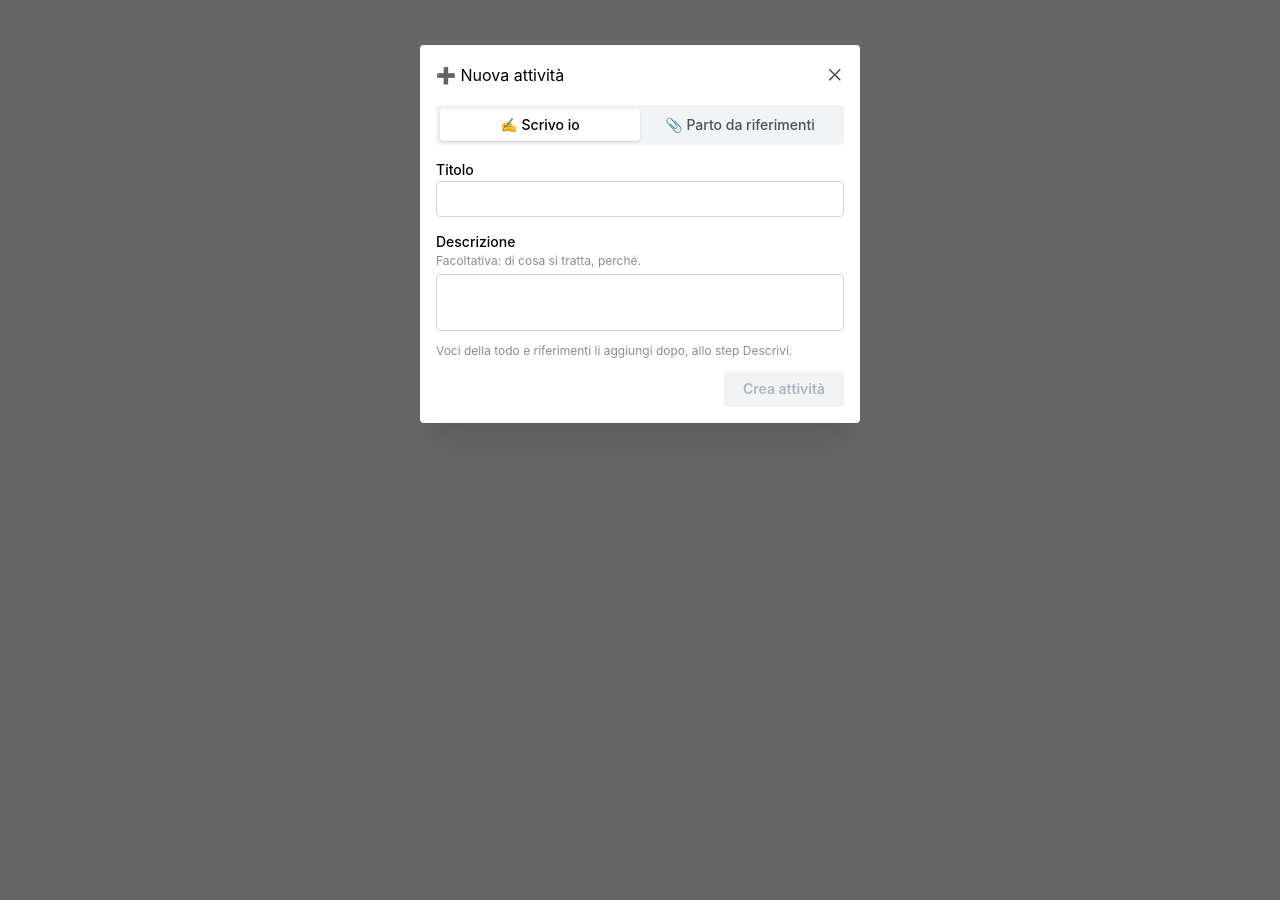
«➕ Nuova attività» · «📎 Parto da riferimenti» › «Cosa vuoi fare» alone is enough to propose
Click the text "📎 Parto da riferimenti".
click(740, 124)  # box [665,116,815,133]
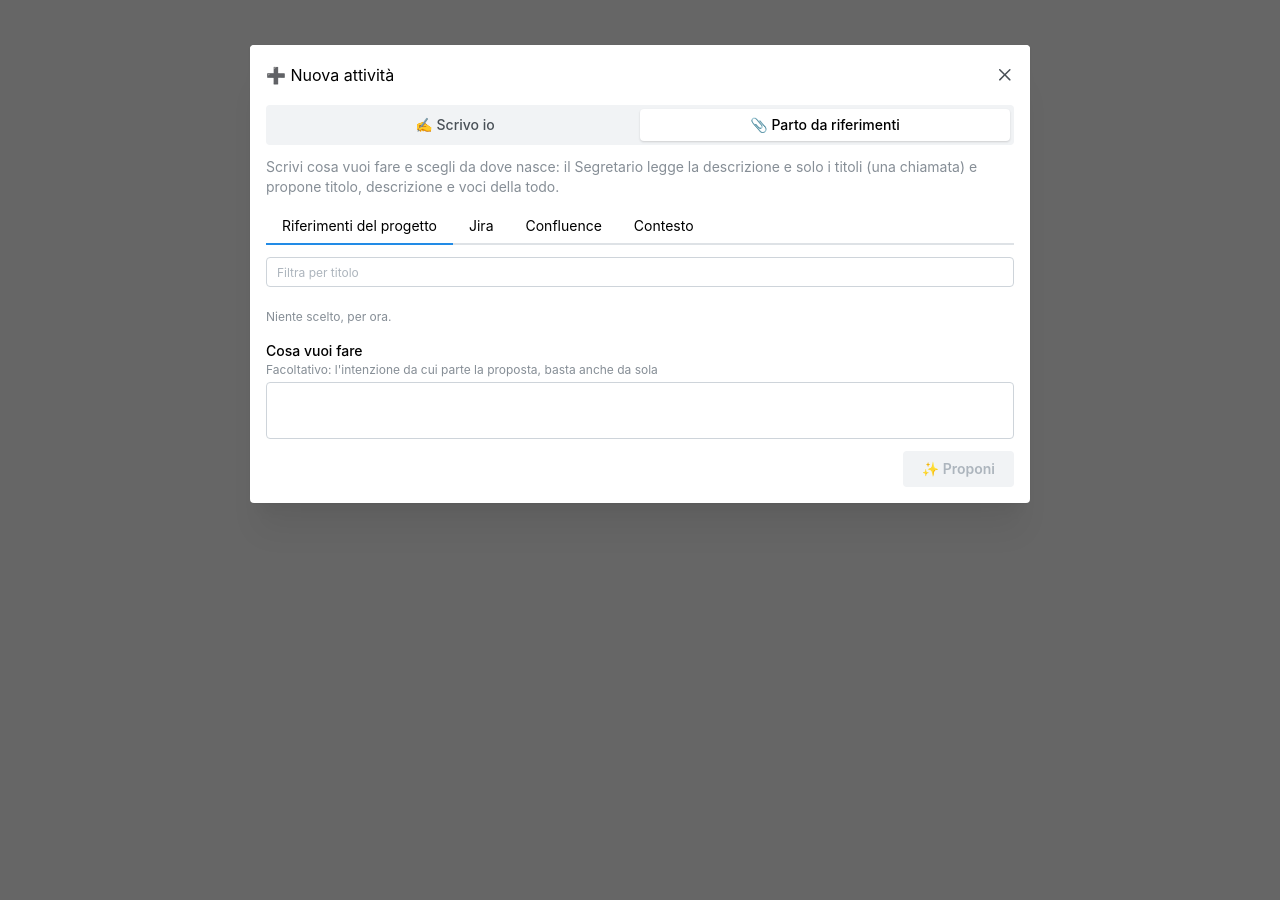
Type "Aggiungere l'OTP al login" into the text box labelled "Cosa vuoi fare".
click(640, 411); type("Aggiungere l'OTP al login")  # box [266,382,1014,439]
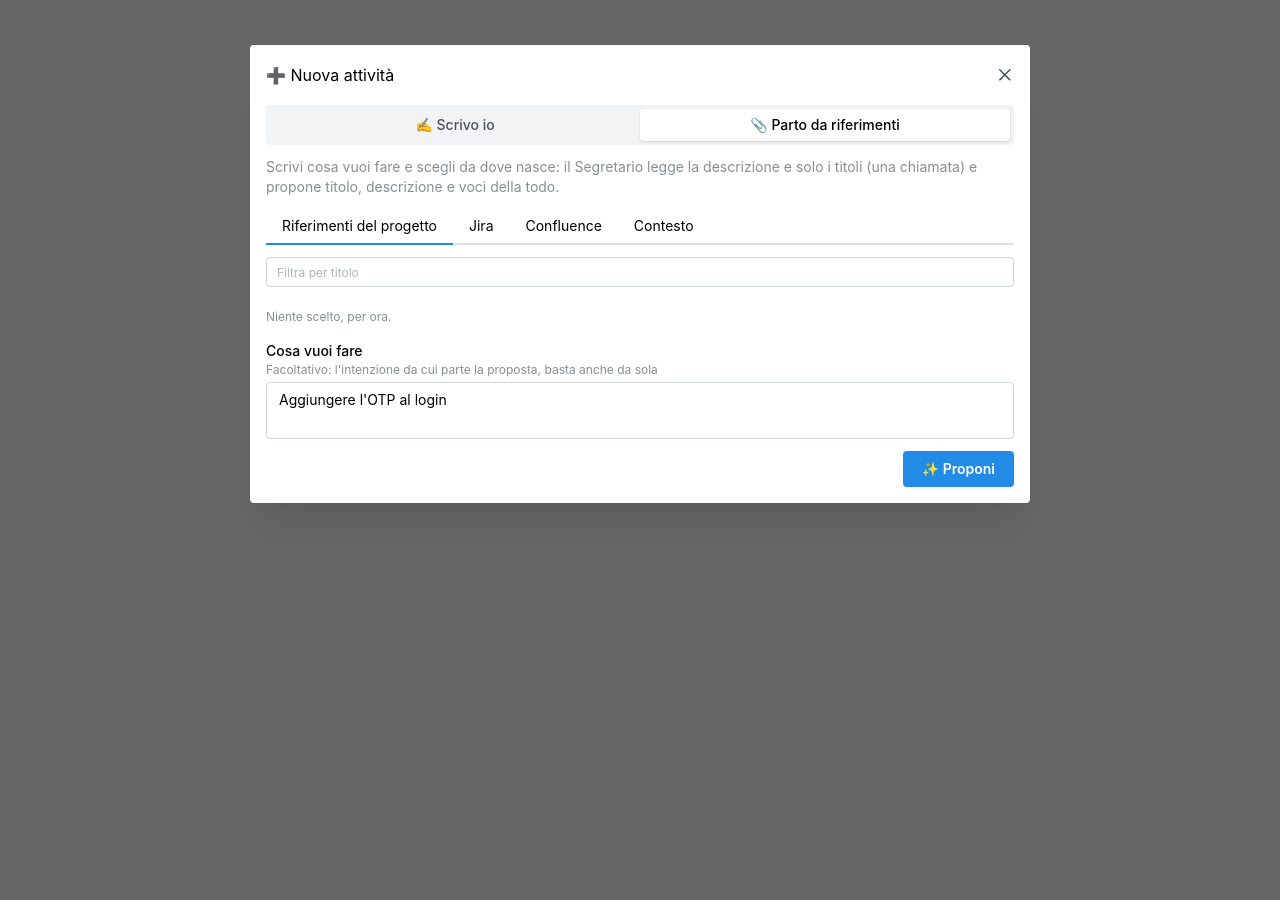
Click the button "✨ Proponi".
click(958, 469)  # box [903,451,1014,487]
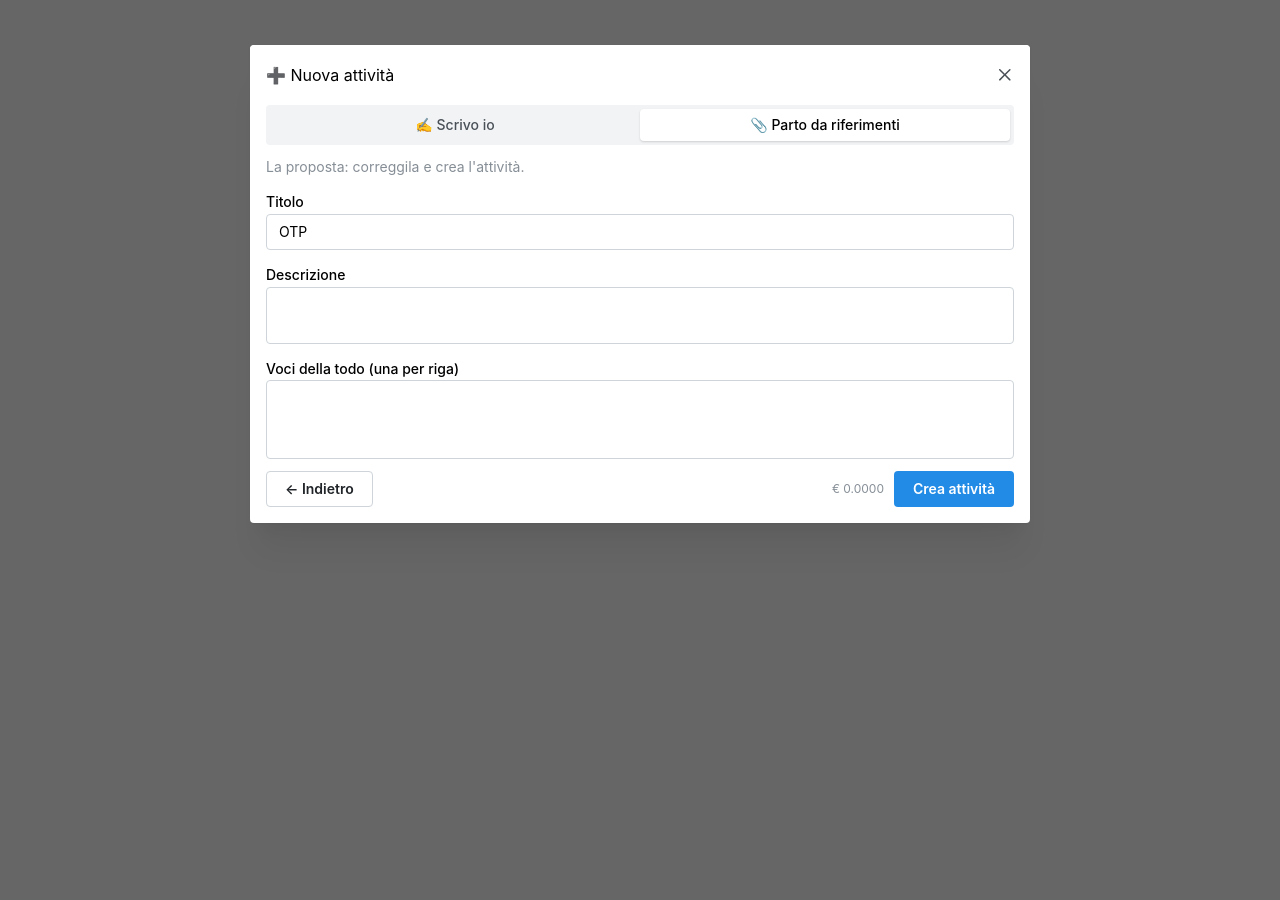
Result: the field labelled "Titolo" holds "OTP" at [266,214,1014,250]
